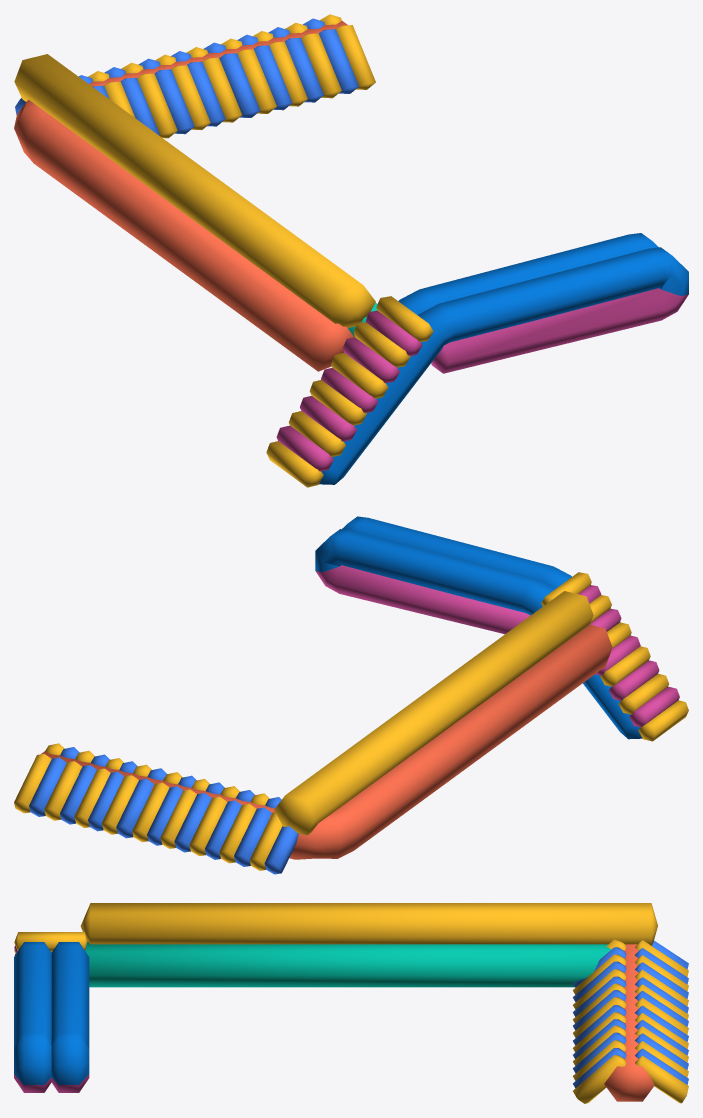
File: course05.glb
The picture shows the model from 3 angles, top to bottom: view 1: azimuth 30°, elevation 25°; view 2: azimuth 150°, elevation 25°; view 3: azimuth 270°, elevation 25°; orthographic projection. The views are drawn at different scales.
Parts seen in each view (by area): view 1: Cylinder.589, Cylinder.588, Cylinder.592, Cylinder.590, Cylinder.629, Cylinder.624, Cylinder.602, Cylinder.634, Cylinder.601, Cylinder.623, Cylinder.603, Cylinder.633 (+17 smaller); view 2: Cylinder.588, Cylinder.592, Cylinder.590, Cylinder.589, Cylinder.611, Cylinder.619, Cylinder.606, Cylinder.616, Cylinder.605, Cylinder.602, Cylinder.615, Cylinder.604 (+17 smaller); view 3: Cylinder.592, Cylinder.591, Cylinder.590, Cylinder.589, Cylinder.588, Cylinder.622, Cylinder.604, Cylinder.601, Cylinder.612, Cylinder.630, Cylinder.620, Cylinder.607 (+26 smaller).
Part boxes in pixels (x1,y1,x2,y2): Cylinder.589: [319, 247, 688, 484]; Cylinder.588: [14, 21, 354, 371]; Cylinder.592: [14, 54, 375, 327]; Cylinder.590: [398, 233, 658, 315]; Cylinder.629: [219, 53, 260, 117]; Cylinder.624: [301, 33, 341, 98]; Cylinder.602: [266, 441, 323, 487]; Cylinder.634: [137, 73, 177, 138]; Cylinder.601: [376, 296, 433, 341]; Cylinder.623: [319, 29, 358, 93]; Cylinder.603: [276, 425, 333, 471]; Cylinder.633: [154, 69, 194, 134]; Cylinder.588: [35, 624, 612, 859]; Cylinder.592: [274, 591, 593, 835]; Cylinder.590: [315, 529, 642, 739]; Cylinder.589: [342, 516, 571, 588]; Cylinder.611: [116, 778, 154, 838]; Cylinder.619: [234, 807, 271, 866]; Cylinder.606: [44, 761, 82, 820]; Cylinder.616: [189, 796, 227, 855]; Cylinder.605: [29, 757, 66, 816]; Cylinder.602: [638, 700, 688, 741]; Cylinder.615: [174, 793, 211, 852]; Cylinder.604: [14, 754, 51, 813]; Cylinder.592: [80, 903, 657, 945]; Cylinder.591: [85, 941, 611, 987]; Cylinder.590: [51, 942, 89, 1092]; Cylinder.589: [14, 942, 51, 1092]; Cylinder.588: [604, 944, 654, 1101]; Cylinder.622: [573, 1055, 626, 1103]; Cylinder.604: [635, 1055, 688, 1103]; Cylinder.601: [14, 932, 87, 952]; Cylinder.612: [635, 997, 688, 1034]; Cylinder.630: [573, 997, 626, 1037]; Cylinder.620: [635, 940, 688, 976]; Cylinder.607: [635, 1033, 688, 1069].
Size of what is drawn, in the model's own units: 19.42 by 7.2 by 32.23.
Materials: 1 (1 with a texture image).
